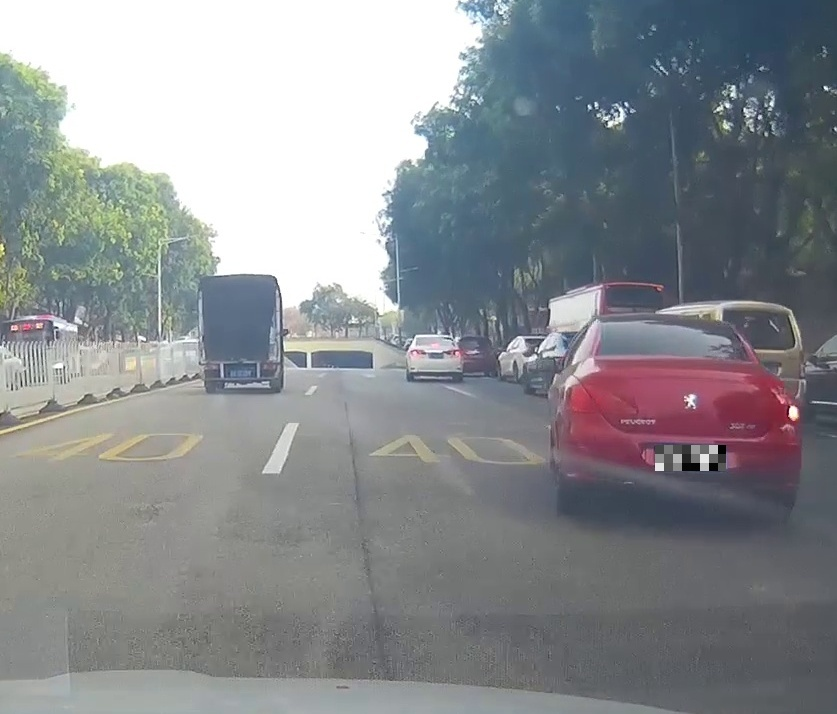L_light: (562, 382, 636, 415), (411, 349, 425, 356), (203, 365, 218, 370)
R_light: (752, 392, 799, 425), (445, 349, 461, 357), (262, 364, 275, 369)
T_light: (652, 319, 685, 327), (232, 356, 245, 360), (432, 344, 439, 346)
day-brake: (409, 334, 463, 382)
day-no: (197, 274, 279, 394)
day-right: (558, 313, 801, 521)
plate_1: (655, 445, 726, 471)
